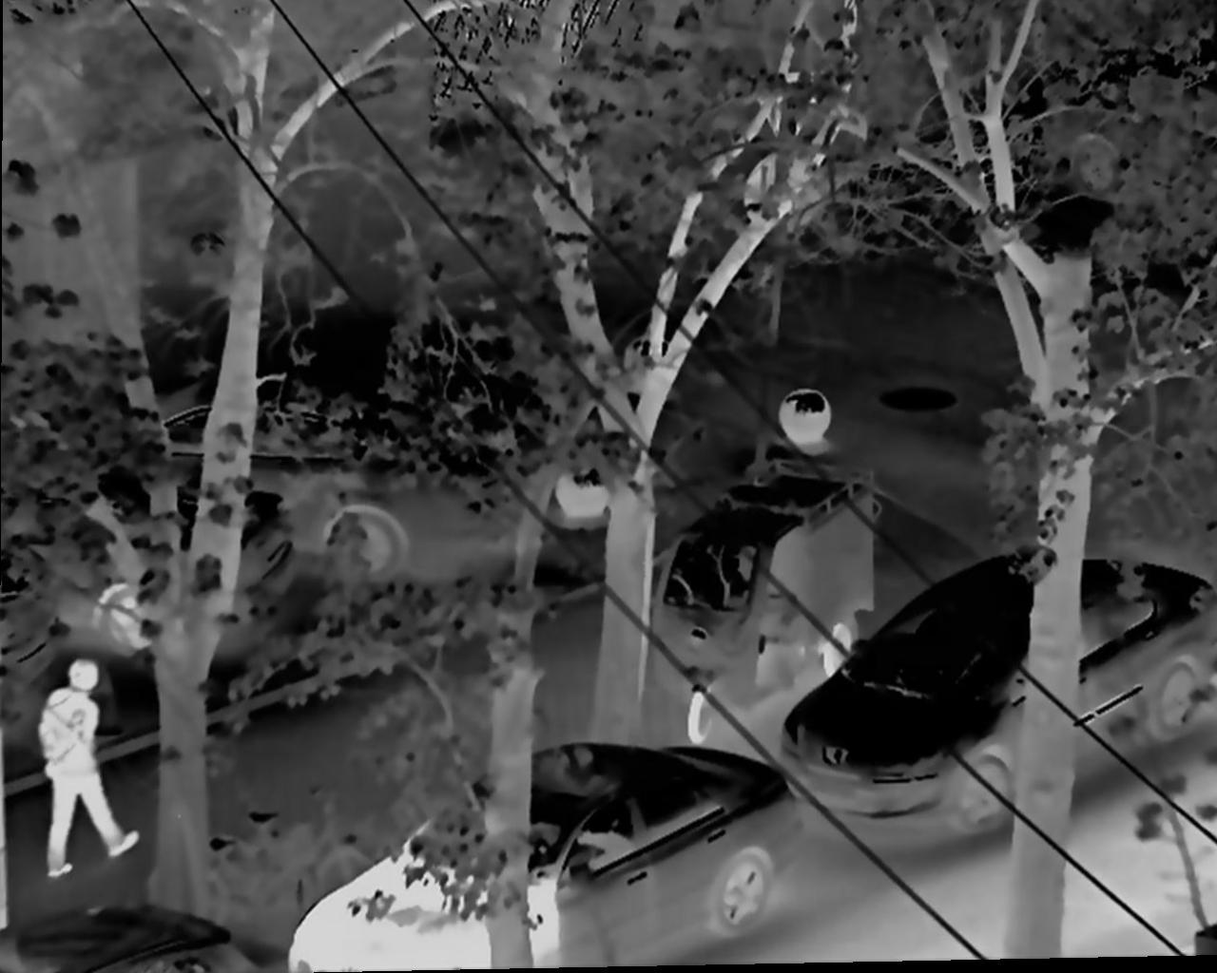person: (30, 656, 139, 887)
